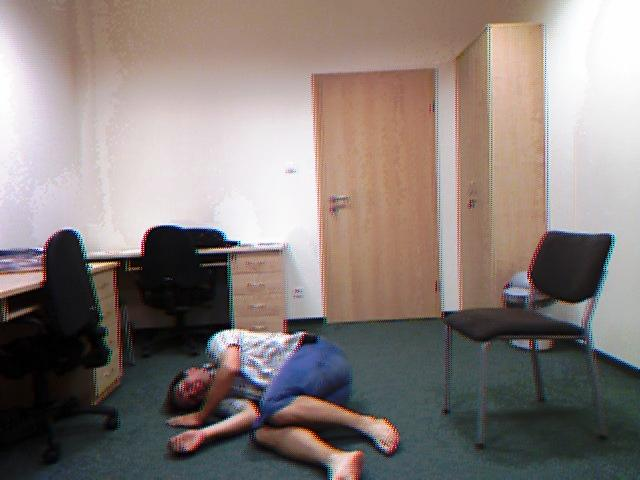fall: (159, 323, 415, 480)
